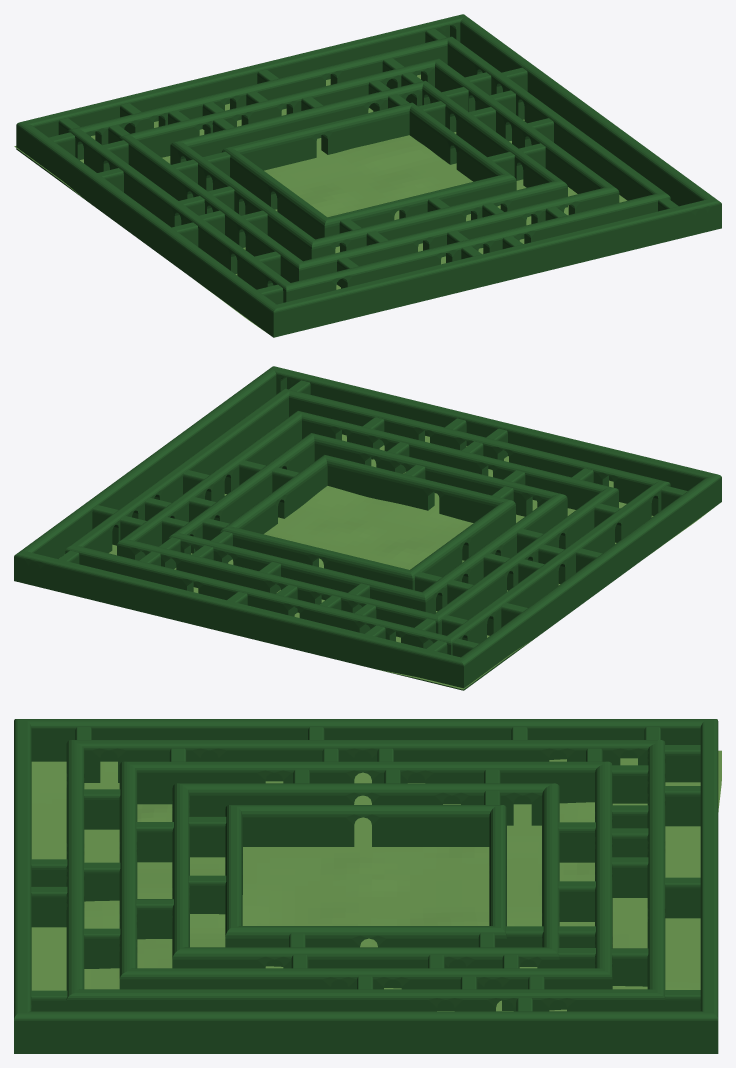
The model's file is Maze 12.fbx.
3 views of the same model, one above another, from view 1: azimuth 30°, elevation 25°; view 2: azimuth 150°, elevation 25°; view 3: azimuth 270°, elevation 25° (orthographic). The views are drawn at different scales.
Visible parts, largest first — view 1: Walls 1.012, Walls 2.012, Walls 3.012, Walls 4.013, Walls 5.012, Floor.013; view 2: Walls 1.012, Walls 2.012, Walls 3.012, Walls 4.013, Walls 5.012, Floor.013; view 3: Walls 1.012, Floor.013, Walls 2.012, Walls 3.012, Walls 4.013, Walls 5.012, Bush Blocker.342, Bush Blocker.336, Bush Blocker.356, Bush Blocker.348, Bush Blocker.349, Bush Blocker.341 (+18 smaller).
Part boxes in pixels (x1,y1,x2,y2): Walls 1.012: (16, 14, 721, 337); Walls 2.012: (67, 36, 670, 302); Walls 3.012: (119, 58, 619, 284); Walls 4.013: (170, 80, 567, 261); Walls 5.012: (221, 102, 516, 246); Floor.013: (14, 74, 627, 331); Walls 1.012: (14, 366, 721, 690); Walls 2.012: (65, 388, 670, 655); Walls 3.012: (117, 411, 618, 637); Walls 4.013: (168, 433, 567, 613); Walls 5.012: (220, 455, 515, 590); Floor.013: (109, 434, 714, 689); Walls 1.012: (14, 719, 718, 1053); Floor.013: (31, 750, 721, 1011); Walls 2.012: (66, 740, 665, 1011); Walls 3.012: (119, 761, 612, 1010); Walls 4.013: (172, 783, 559, 989); Walls 5.012: (225, 805, 506, 968); Bush Blocker.342: (188, 816, 226, 857); Bush Blocker.336: (31, 886, 67, 927); Bush Blocker.356: (665, 877, 700, 918); Bush Blocker.348: (558, 881, 595, 921); Bush Blocker.349: (558, 822, 595, 862); Bush Blocker.341: (136, 822, 173, 862).
Bounding box in the file's own units: 6009 × 368 × 5992.
